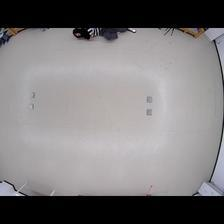fall: (70, 26, 136, 40)
